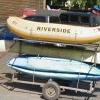Boat: (6, 46, 98, 88)
